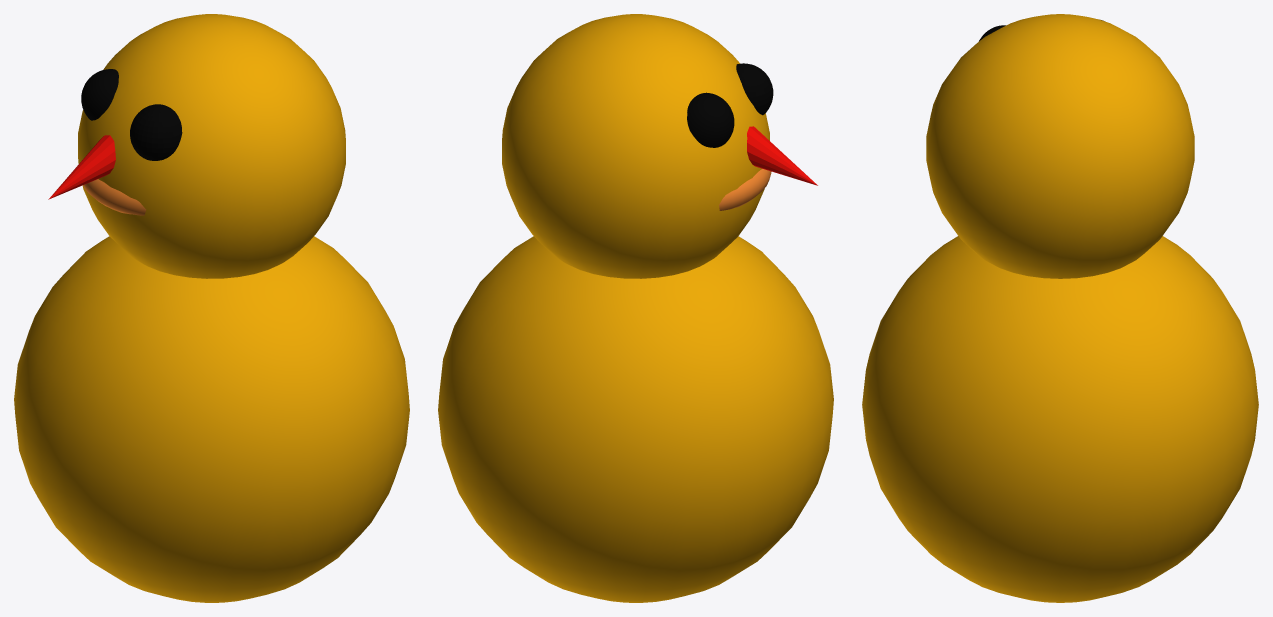
File: player.fbx
3 views of the same model, side by side, from view 1: azimuth 30°, elevation 25°; view 2: azimuth 150°, elevation 25°; view 3: azimuth 270°, elevation 25° (orthographic).
Parts seen in each view (by area): view 1: down, head, yanjing2, bizi, yanjing, huan; view 2: down, head, yanjing, bizi, yanjing2, huan; view 3: down, head.
Part boxes in pixels (x1=…): down: x1=14, y1=236, x2=409, y2=602; head: x1=78, y1=14, x2=345, y2=278; yanjing2: x1=130, y1=104, x2=182, y2=160; bizi: x1=48, y1=135, x2=115, y2=199; yanjing: x1=81, y1=69, x2=118, y2=120; huan: x1=83, y1=179, x2=146, y2=215; down: x1=438, y1=236, x2=833, y2=602; head: x1=502, y1=14, x2=769, y2=278; yanjing: x1=687, y1=92, x2=734, y2=147; bizi: x1=747, y1=126, x2=817, y2=185; yanjing2: x1=736, y1=63, x2=773, y2=115; huan: x1=719, y1=169, x2=771, y2=210; down: x1=862, y1=236, x2=1258, y2=602; head: x1=926, y1=14, x2=1194, y2=278.
Size of the model in its own units: 201 by 311 by 200.
